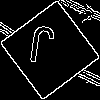J: (25, 25, 57, 74)
